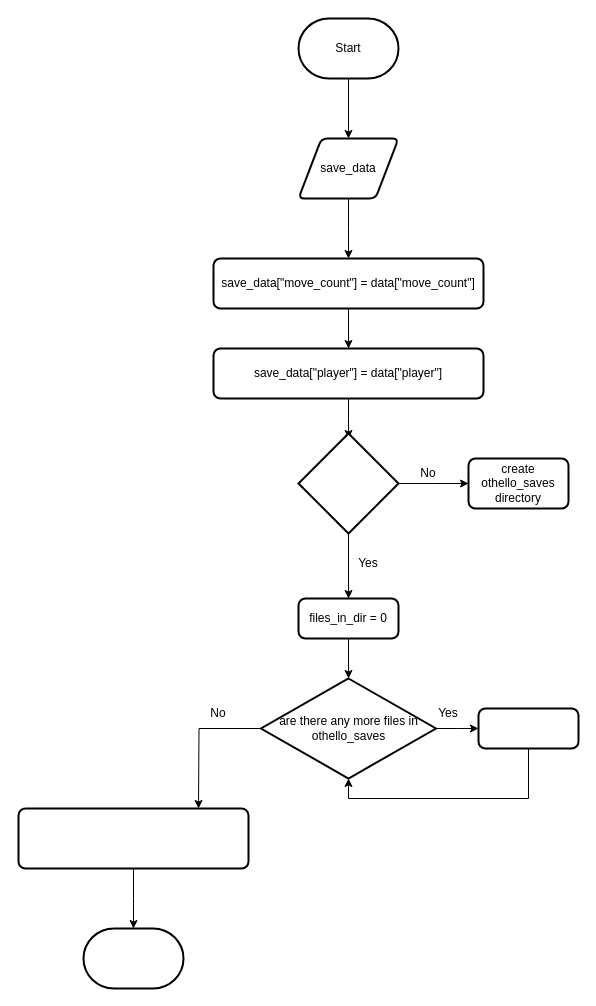
The diagram is 596 pixels wide and 1006 high, and some of its shapes have lost their labels. The centre of each missing label's shape, as x and y in pixels:
directory othello_saves exists: point 348,483
files_in_dir += 1: point 528,728
Write save_data to "othello_saves/save_" + files_in_dir: point 133,838
